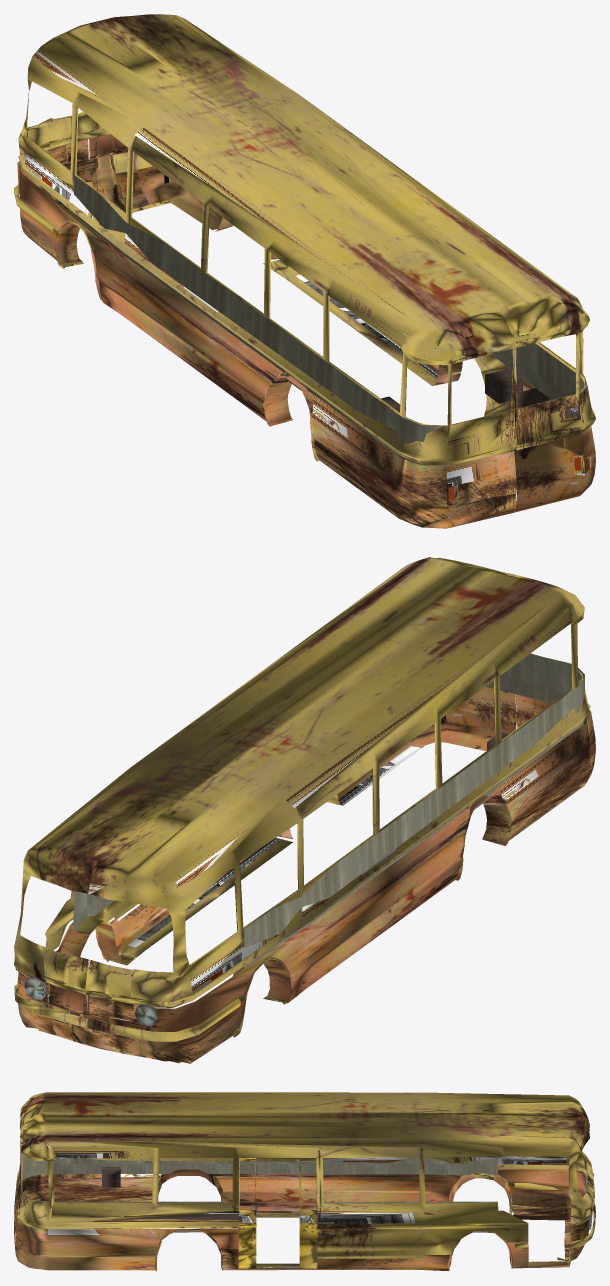
File: WreckedBus.FBX
3 views of the same model, one above another, from view 1: azimuth 30°, elevation 25°; view 2: azimuth 150°, elevation 25°; view 3: azimuth 270°, elevation 25° (orthographic). The views are drawn at different scales.
Parts seen in each view (by area): view 1: Buss; view 2: Buss; view 3: Buss.
Boxes of the visible parts, box(x1,y1,x2,y2) form: Buss: box(14, 14, 595, 528); Buss: box(14, 557, 595, 1063); Buss: box(14, 1092, 595, 1271).
Size of the model in its own units: 0.2408 by 0.2221 by 0.8988.
